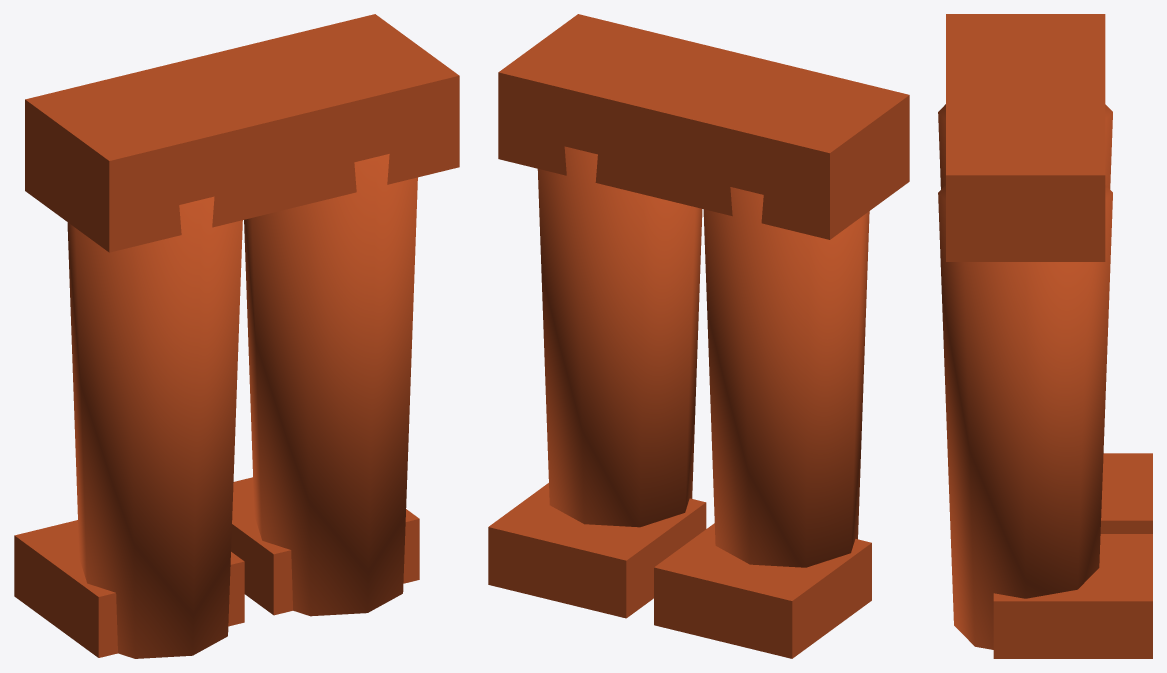
The model's file is cinder_greaves.glb.
The picture shows the model from 3 angles, left to right: view 1: azimuth 30°, elevation 25°; view 2: azimuth 150°, elevation 25°; view 3: azimuth 270°, elevation 25°; orthographic projection. The views are drawn at different scales.
Parts seen in each view (by area): view 1: cinder_greaves_v0; view 2: cinder_greaves_v0; view 3: cinder_greaves_v0.
Part boxes in pixels (x1,y1,x2,y2): cinder_greaves_v0: (14, 14, 459, 658); cinder_greaves_v0: (488, 14, 909, 658); cinder_greaves_v0: (938, 14, 1152, 658).
Bounding box in the file's own units: 0.24 × 0.34 × 0.135.
